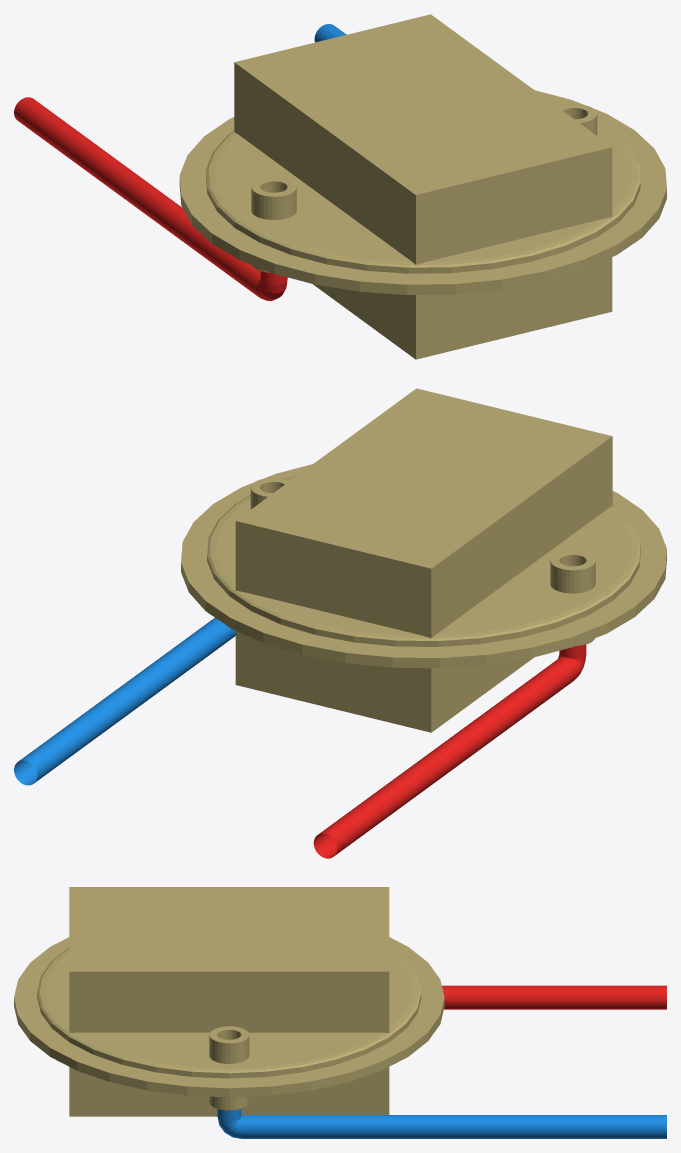
Rendered from DwyerOutside.glb.
3 views of the same model, one above another, from view 1: azimuth 30°, elevation 25°; view 2: azimuth 150°, elevation 25°; view 3: azimuth 270°, elevation 25° (orthographic). The views are drawn at different scales.
Visible parts, largest first — view 1: child.001, child.003; view 2: child.001, child.003, child.002; view 3: child.001, child.002, child.003.
Boxes of the visible parts, x1,y1,x2,y2 form: child.001: [179, 14, 666, 359]; child.003: [14, 97, 287, 300]; child.001: [181, 388, 666, 732]; child.003: [313, 644, 586, 858]; child.002: [14, 618, 235, 785]; child.001: [14, 887, 444, 1116]; child.002: [217, 1109, 666, 1138]; child.003: [442, 985, 666, 1009].
Bounding box in the file's own units: 108 × 41.83 × 163.
